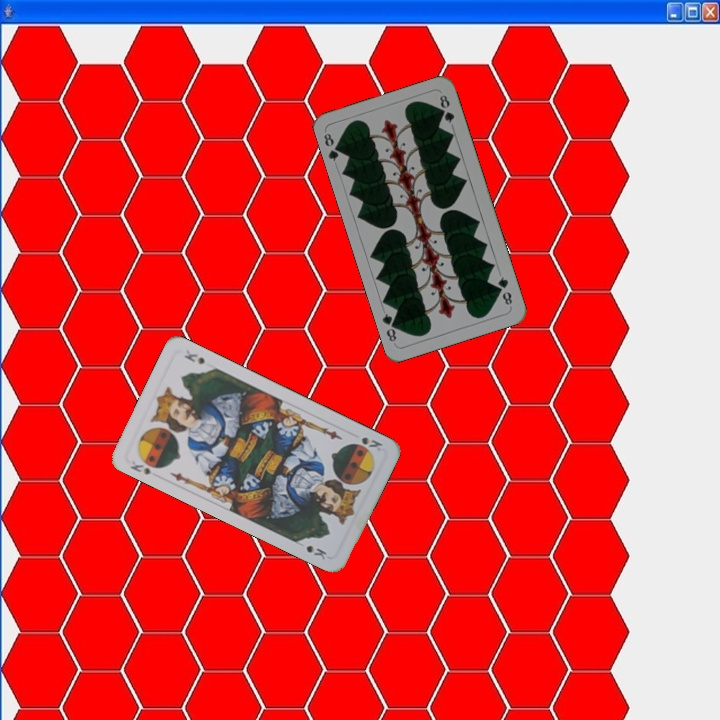G8: (320, 129, 345, 164), (494, 272, 515, 308)
SK: (126, 454, 164, 478), (357, 433, 385, 454)
